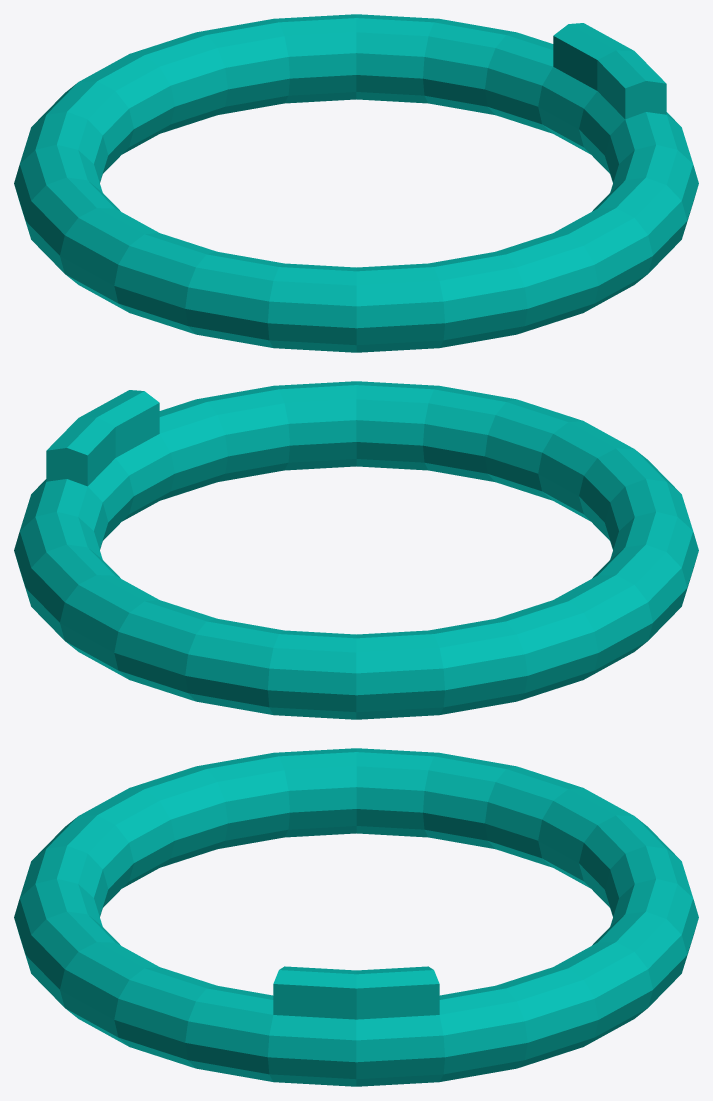
File: Inel.fbx
The picture shows the model from 3 angles, top to bottom: view 1: azimuth 30°, elevation 25°; view 2: azimuth 150°, elevation 25°; view 3: azimuth 270°, elevation 25°; orthographic projection.
Parts seen in each view (by area): view 1: Torus; view 2: Torus; view 3: Torus.
Boxes of the visible parts, x1=… form: Torus: x1=14, y1=14, x2=698, y2=352; Torus: x1=14, y1=381, x2=698, y2=719; Torus: x1=14, y1=748, x2=698, y2=1086.
Size of the model in its own units: 8 by 1.4 by 8.
